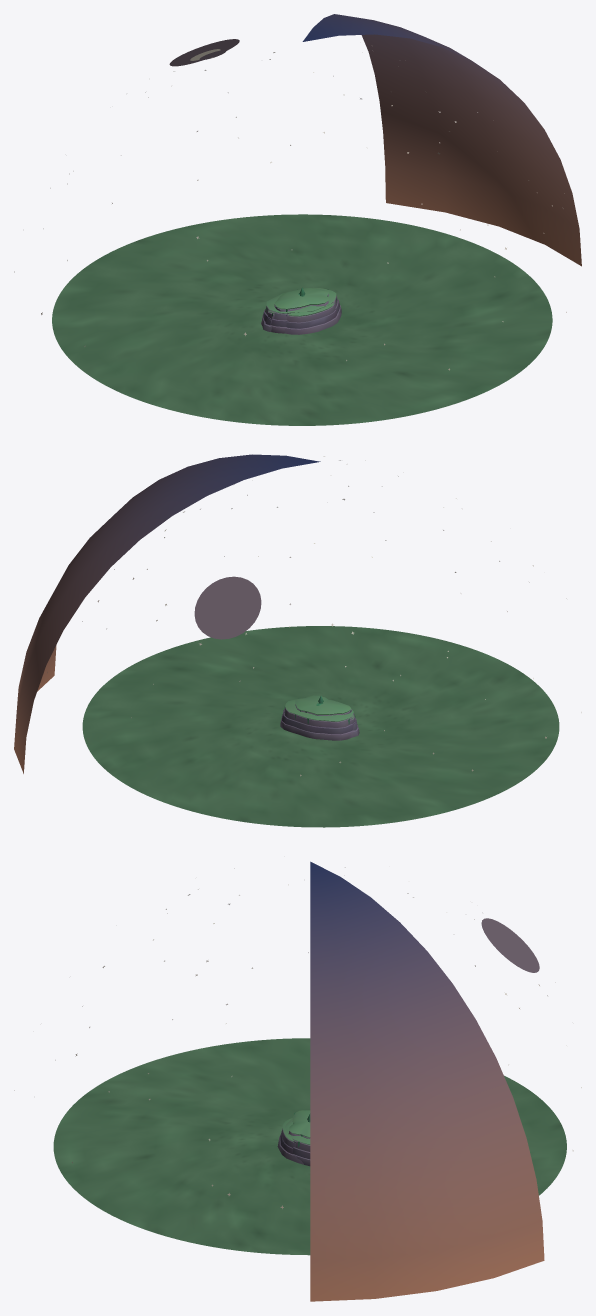
The model's file is Meadow_Dusk.fbx.
3 renders of one model, top to bottom at view 1: azimuth 30°, elevation 25°; view 2: azimuth 150°, elevation 25°; view 3: azimuth 270°, elevation 25°, orthographic. The views are drawn at different scales.
Visible parts, largest first — view 1: Meadow_SkyWedge, Meadow_GroundS5_1, Meadow_GroundS5_5, Meadow_GroundS5_0, Meadow_GroundS5_4, Meadow_GroundS5_6, Meadow_GroundS5_7, Meadow_GroundS5_2, Meadow_GroundS5_3, Meadow_GroundS4_1, Meadow_GroundS4_0, Meadow_GroundS4_5 (+18 smaller); view 2: Meadow_SkyWedge, Meadow_GroundS5_2, Meadow_GroundS5_3, Meadow_GroundS5_6, Meadow_GroundS5_0, Meadow_GroundS5_5, Meadow_GroundS5_1, Meadow_GroundS5_4, Meadow_GroundS5_7, Meadow_Sun, Meadow_GroundS4_2, Meadow_GroundS4_6 (+16 smaller); view 3: Meadow_SkyWedge, Meadow_GroundS5_7, Meadow_GroundS5_4, Meadow_GroundS5_6, Meadow_GroundS5_5, Meadow_GroundS4_7, Meadow_GroundS4_4, Meadow_GroundS4_6, Meadow_GroundS4_5, Meadow_GroundS5_2, Meadow_Sun, Meadow_GroundS5_1 (+4 smaller).
Part boxes in pixels (x1,y1,x2,y2): Meadow_SkyWedge: [302, 14, 581, 266]; Meadow_GroundS5_1: [177, 214, 366, 260]; Meadow_GroundS5_5: [238, 379, 426, 425]; Meadow_GroundS5_0: [344, 218, 518, 285]; Meadow_GroundS5_4: [86, 354, 260, 422]; Meadow_GroundS5_6: [383, 338, 543, 411]; Meadow_GroundS5_7: [442, 267, 552, 347]; Meadow_GroundS5_2: [60, 228, 220, 302]; Meadow_GroundS5_3: [52, 293, 161, 372]; Meadow_GroundS4_1: [222, 252, 343, 284]; Meadow_GroundS4_0: [327, 254, 441, 299]; Meadow_GroundS4_5: [261, 355, 382, 388]; Meadow_SkyWedge: [14, 454, 320, 773]; Meadow_GroundS5_2: [202, 783, 382, 827]; Meadow_GroundS5_3: [361, 759, 526, 823]; Meadow_GroundS5_6: [259, 626, 439, 670]; Meadow_GroundS5_0: [82, 676, 187, 752]; Meadow_GroundS5_5: [398, 639, 550, 709]; Meadow_GroundS5_1: [91, 743, 243, 813]; Meadow_GroundS5_4: [454, 700, 559, 776]; Meadow_GroundS5_7: [115, 629, 280, 693]; Meadow_Sun: [194, 576, 261, 639]; Meadow_GroundS4_2: [244, 760, 360, 791]; Meadow_GroundS4_6: [281, 661, 397, 692]; Meadow_SkyWedge: [310, 861, 544, 1301]; Meadow_GroundS5_7: [129, 1196, 310, 1255]; Meadow_GroundS5_4: [129, 1038, 310, 1096]; Meadow_GroundS5_6: [53, 1146, 192, 1223]; Meadow_GroundS5_5: [53, 1070, 192, 1146]; Meadow_GroundS4_7: [193, 1176, 310, 1216]; Meadow_GroundS4_4: [193, 1076, 310, 1116]; Meadow_GroundS4_6: [144, 1146, 239, 1195]; Meadow_GroundS4_5: [144, 1097, 239, 1146]; Meadow_GroundS5_2: [504, 1075, 566, 1146]; Meadow_Sun: [481, 918, 539, 972]; Meadow_GroundS5_1: [529, 1146, 566, 1195].
Size of the model in its own units: 75.58 by 40 by 68.58.
